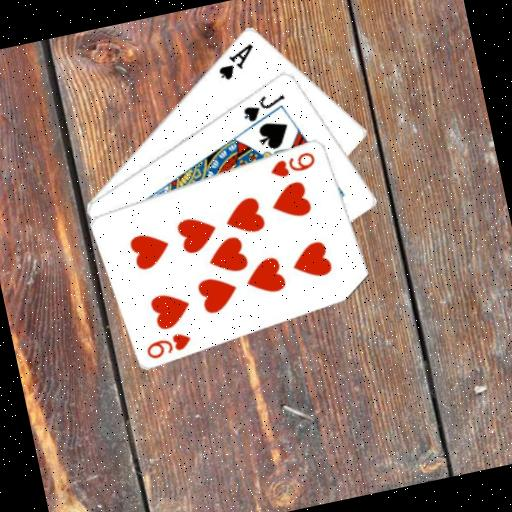9H: (265, 147, 319, 181), (141, 327, 195, 361)
AS: (211, 39, 261, 83)
JS: (236, 88, 290, 125)
